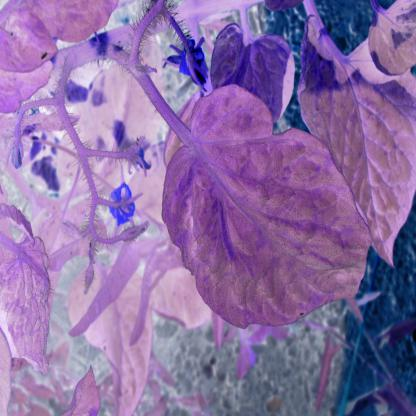tomato leaf mosaic virus: (156, 86, 367, 337), (282, 23, 415, 254), (1, 235, 67, 379)
